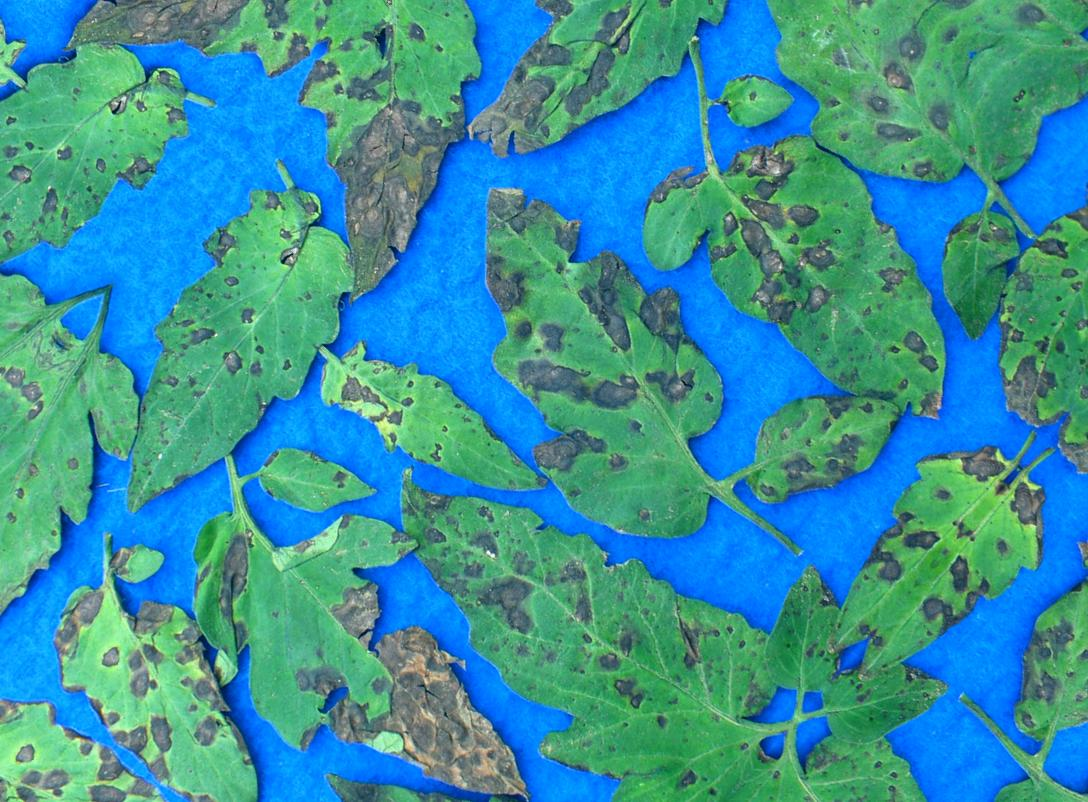Tomato Early blight leaf: (308, 349, 838, 802), (377, 161, 808, 579), (623, 93, 1027, 481), (66, 169, 405, 526), (205, 0, 562, 314), (657, 0, 1063, 252), (0, 532, 335, 802), (431, 0, 774, 223), (789, 393, 1043, 667), (0, 313, 203, 646), (293, 306, 556, 556), (923, 153, 1088, 442), (304, 680, 649, 802), (224, 403, 395, 572), (906, 192, 1048, 335), (411, 0, 724, 54), (246, 791, 537, 802)
